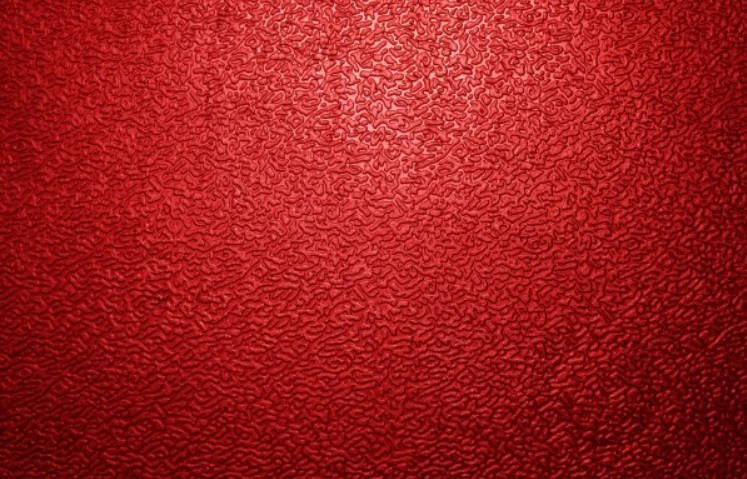Red: (13, 9, 729, 467)
